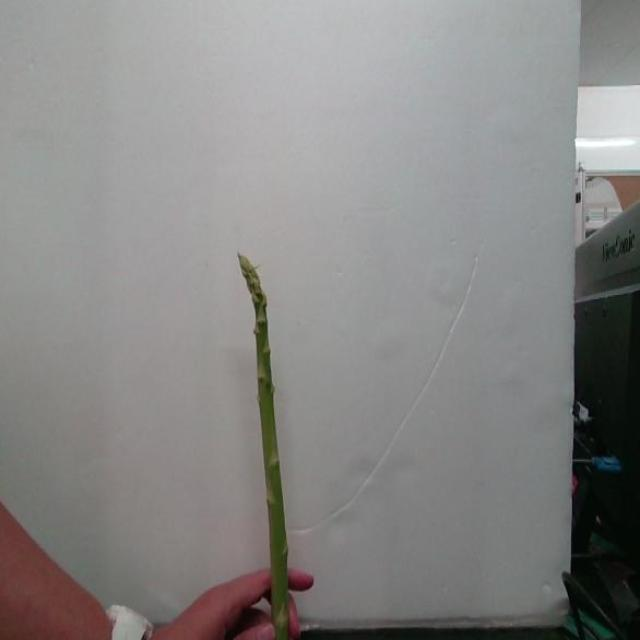aspargus: (239, 256, 292, 640)
